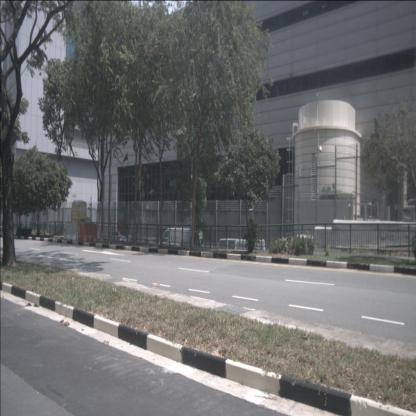barrier: (79, 223, 98, 241), (64, 222, 78, 241)
